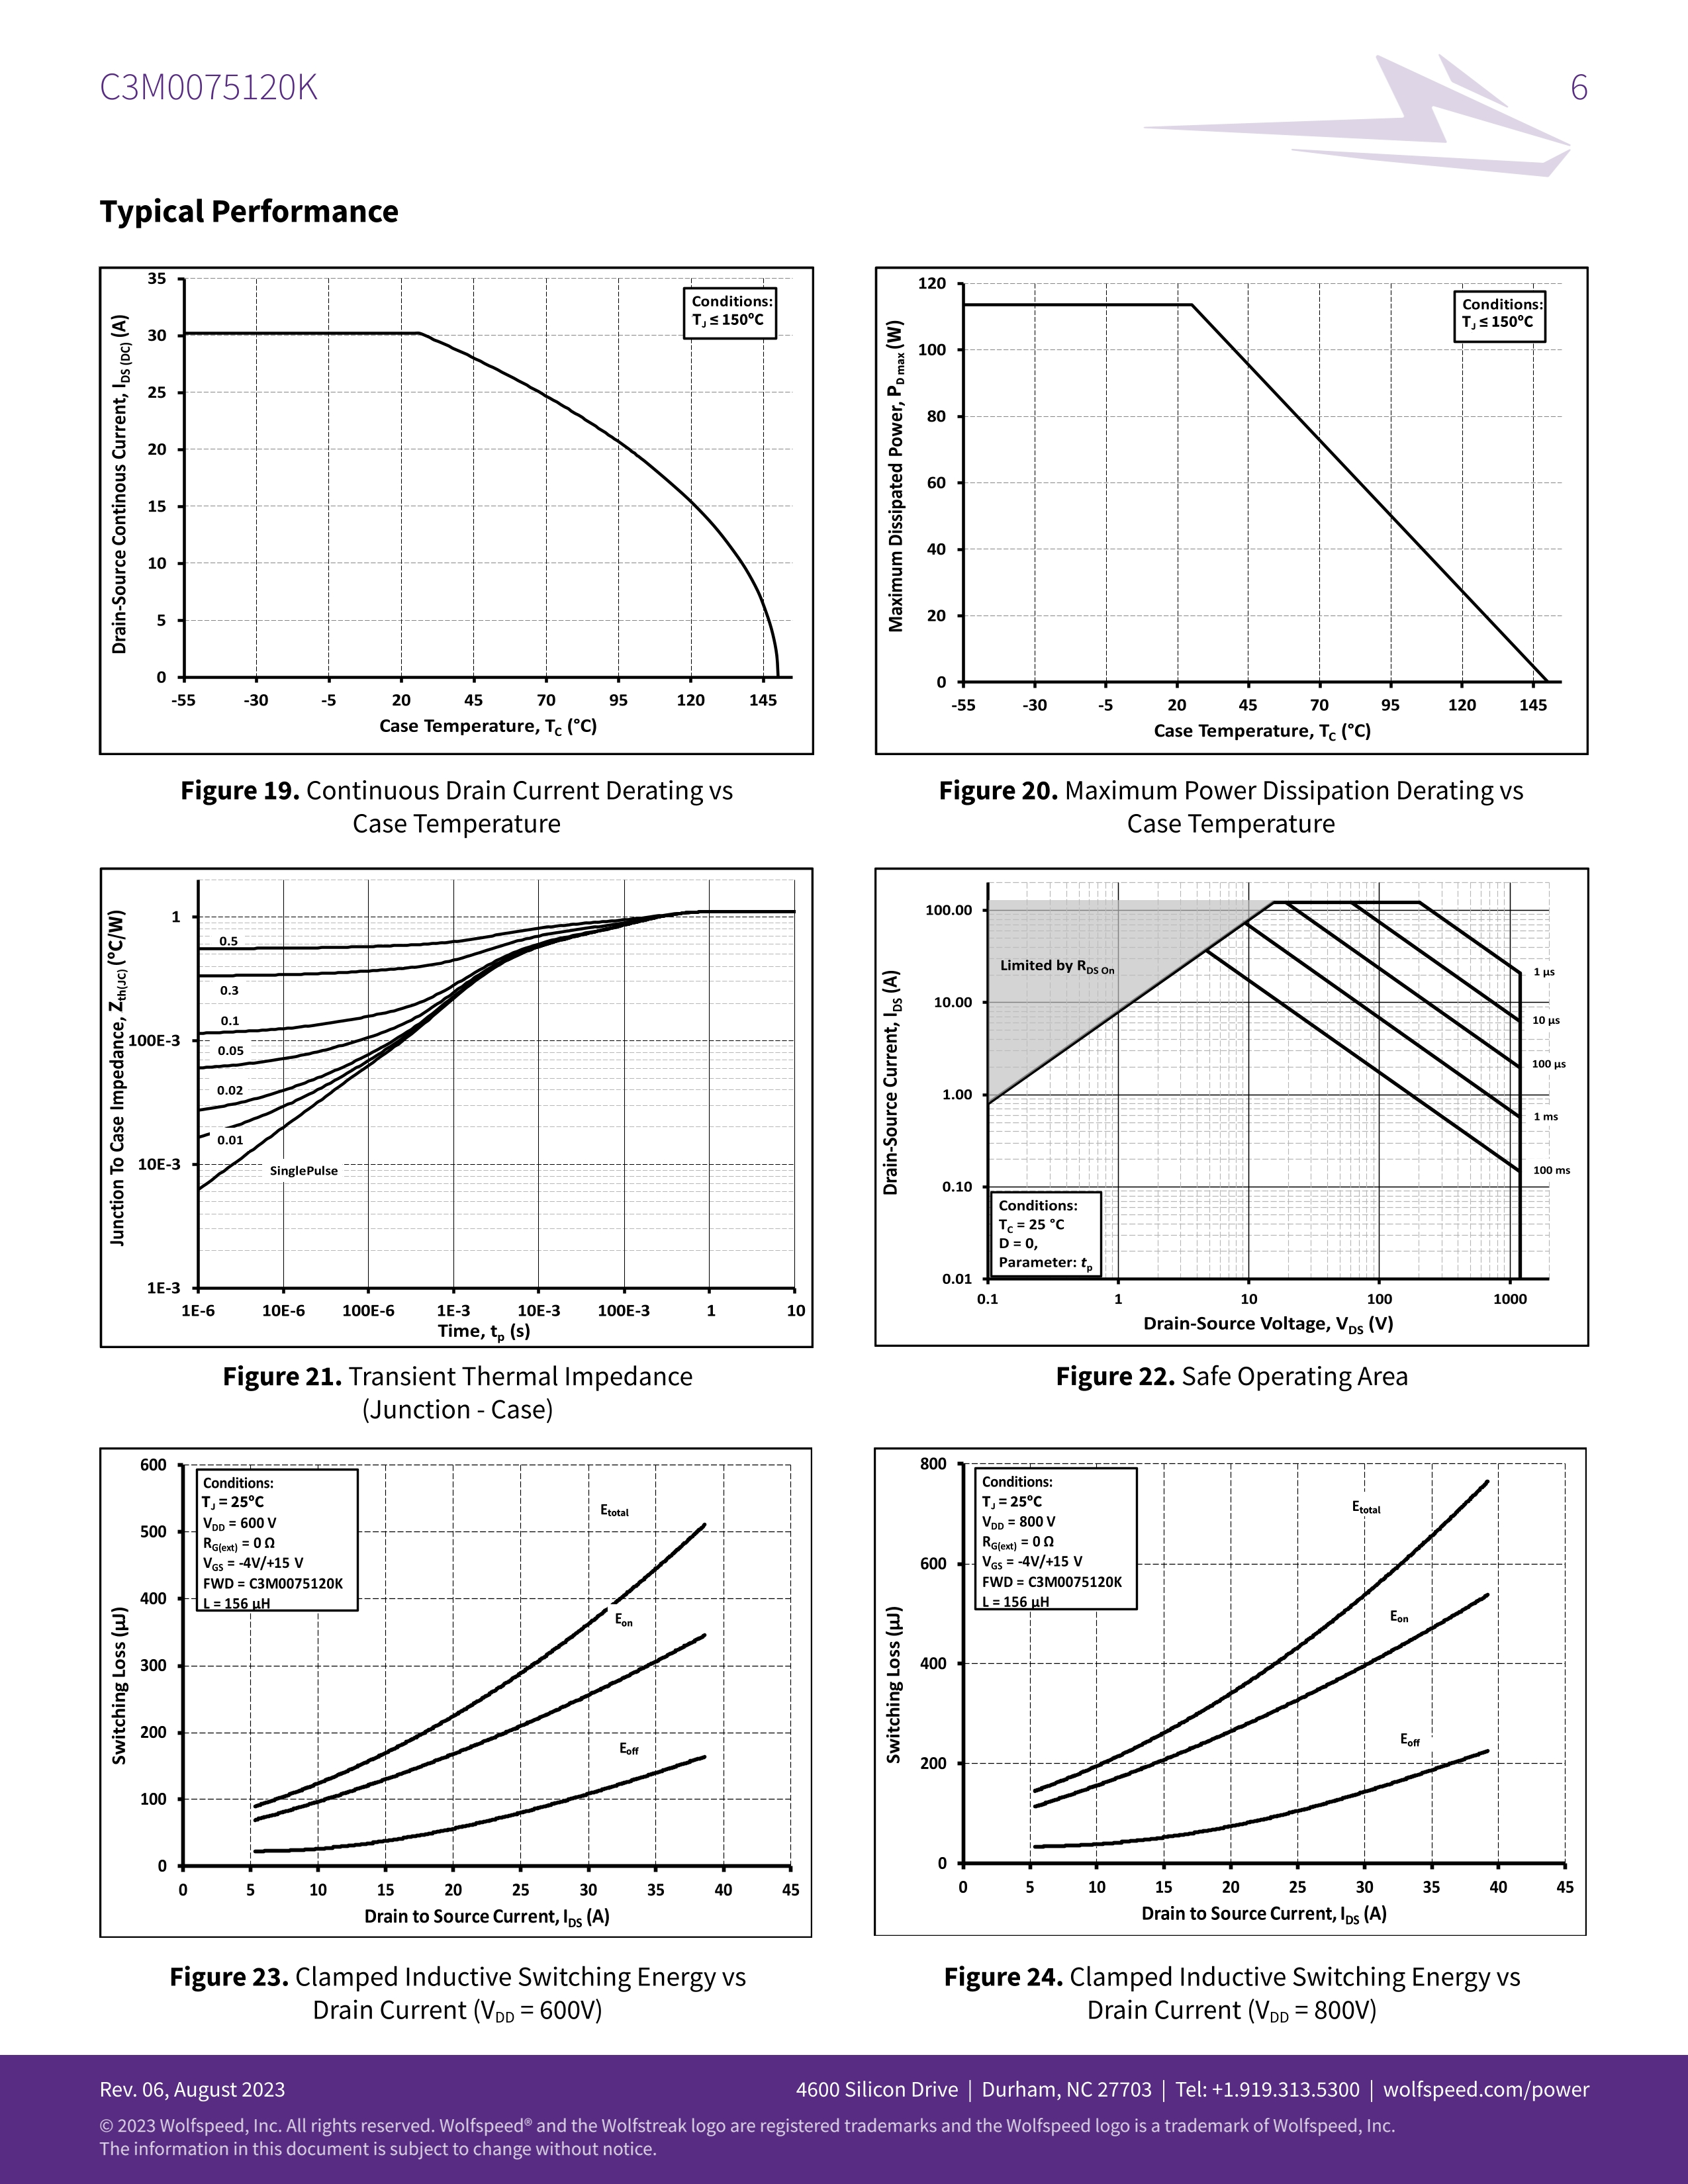diagram: (860, 1436, 1601, 2051), (865, 253, 1608, 860), (83, 1434, 816, 2048), (87, 257, 832, 854), (87, 856, 824, 1439), (856, 854, 1601, 1416)
